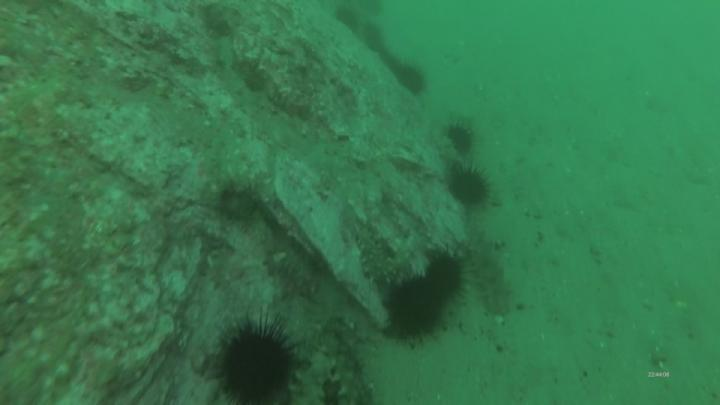echinus: (202, 316, 301, 405), (385, 273, 448, 346), (423, 249, 478, 310), (448, 162, 495, 211), (440, 116, 478, 159), (393, 59, 432, 99), (364, 23, 394, 61), (333, 7, 366, 35)
holothurian: (351, 220, 408, 294), (323, 328, 377, 405), (467, 250, 519, 323), (298, 345, 334, 405)
